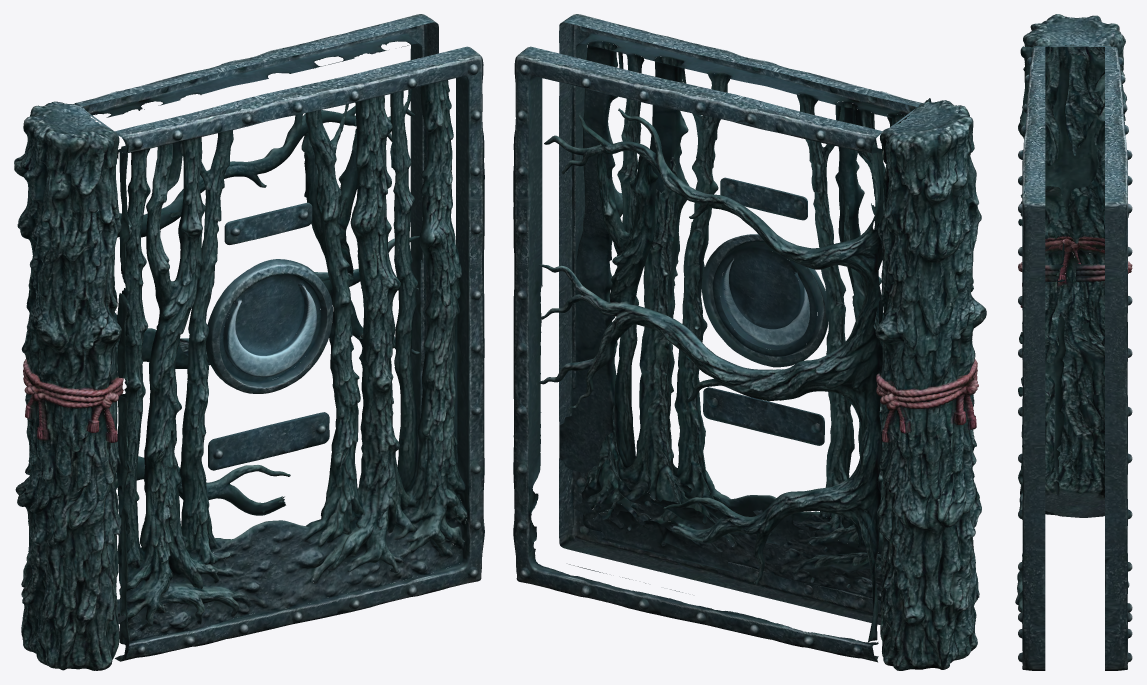
Rendered from seers.glb.
3 views of the same model, side by side, from view 1: azimuth 30°, elevation 25°; view 2: azimuth 150°, elevation 25°; view 3: azimuth 270°, elevation 25° (orthographic). The views are drawn at different scales.
Parts seen in each view (by area): view 1: T_right, S_trunk, T_left, F_frame, F_ground, B_frame, B_roots, F_disc, F_ring, F_plateB, S_cord, F_moon (+1 smaller); view 2: S_trunk, T_right, B_roots, B_frame, F_frame, F_ground, T_left, F_disc, F_plateB, F_ring, S_cord, F_moon (+1 smaller); view 3: S_trunk, F_frame, B_frame, S_cord, T_left, T_right.
Boxes of the visible parts, x1=… form: T_right: x1=301, y1=80, x2=466, y2=583; S_trunk: x1=14, y1=101, x2=121, y2=670; T_left: x1=115, y1=130, x2=234, y2=660; F_frame: x1=115, y1=46, x2=484, y2=661; F_ground: x1=119, y1=519, x2=463, y2=641; B_frame: x1=74, y1=14, x2=438, y2=624; B_roots: x1=113, y1=105, x2=419, y2=515; F_disc: x1=219, y1=274, x2=320, y2=382; F_ring: x1=205, y1=259, x2=333, y2=393; F_plateB: x1=208, y1=412, x2=329, y2=470; S_cord: x1=23, y1=358, x2=123, y2=442; F_moon: x1=223, y1=282, x2=316, y2=377; S_trunk: x1=875, y1=100, x2=986, y2=670; T_right: x1=559, y1=41, x2=735, y2=546; B_roots: x1=539, y1=108, x2=883, y2=643; B_frame: x1=513, y1=46, x2=882, y2=662; F_frame: x1=559, y1=14, x2=922, y2=624; F_ground: x1=583, y1=488, x2=882, y2=600; T_left: x1=793, y1=94, x2=931, y2=570; F_disc: x1=713, y1=247, x2=816, y2=356; F_plateB: x1=703, y1=387, x2=824, y2=445; F_ring: x1=701, y1=234, x2=828, y2=367; S_cord: x1=876, y1=359, x2=978, y2=442; F_moon: x1=719, y1=257, x2=809, y2=349; S_trunk: x1=1019, y1=14, x2=1129, y2=517; F_frame: x1=1018, y1=46, x2=1045, y2=670; B_frame: x1=1105, y1=46, x2=1132, y2=670; S_cord: x1=1018, y1=236, x2=1132, y2=307; T_left: x1=1018, y1=46, x2=1033, y2=495; T_right: x1=1015, y1=332, x2=1045, y2=623.
Bounding box in the file's own units: 0.8245 × 0.9779 × 0.2166.
1 material, 1 textured.
